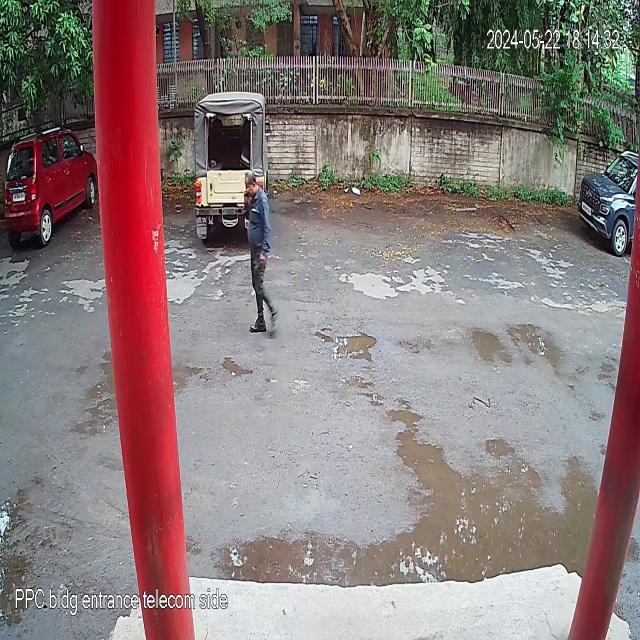Boots: (267, 310, 282, 339), (250, 313, 268, 330)
NO-Hardhat: (244, 169, 258, 198)
Person: (240, 173, 276, 334)
